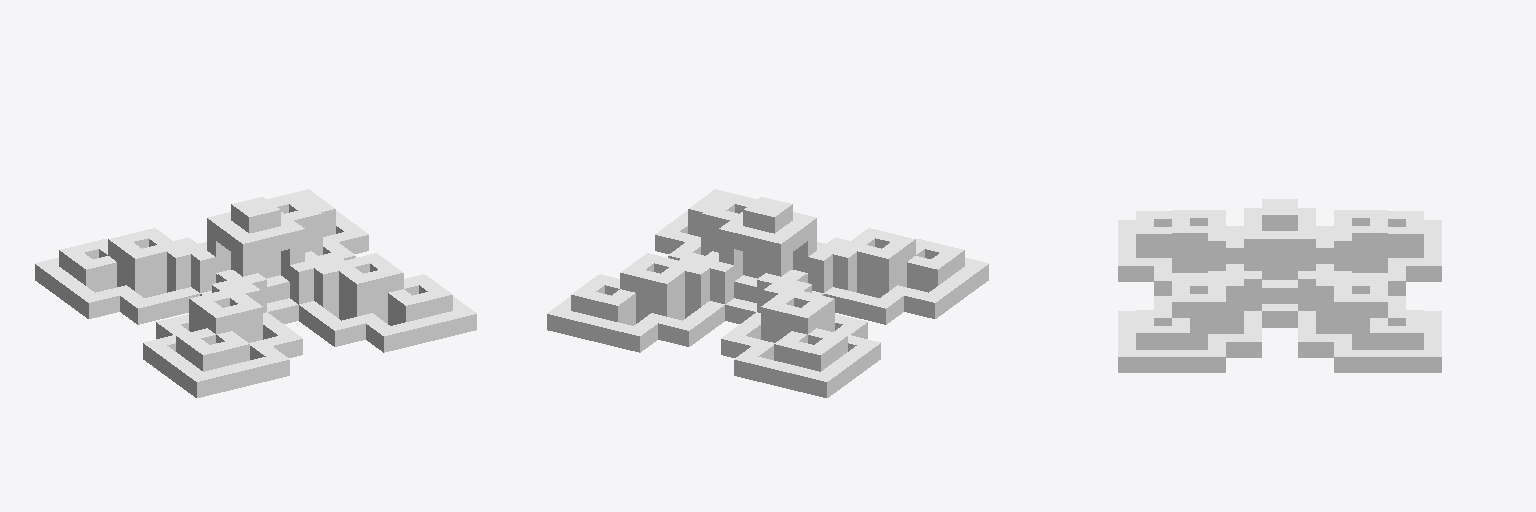
The model's file is Turret2Bot.obj.
The picture shows the model from 3 angles: view 1: azimuth 30°, elevation 25°; view 2: azimuth 150°, elevation 25°; view 3: azimuth 270°, elevation 25°; orthographic projection.
Visible parts, largest first — view 1: object 1; view 2: object 1; view 3: object 1.
Boxes of the visible parts, <box> form: object 1: <box>35,189,476,397</box>; object 1: <box>547,189,988,397</box>; object 1: <box>1118,199,1441,372</box>.
Bounding box in the file's own units: 1.8 × 0.6 × 1.8.